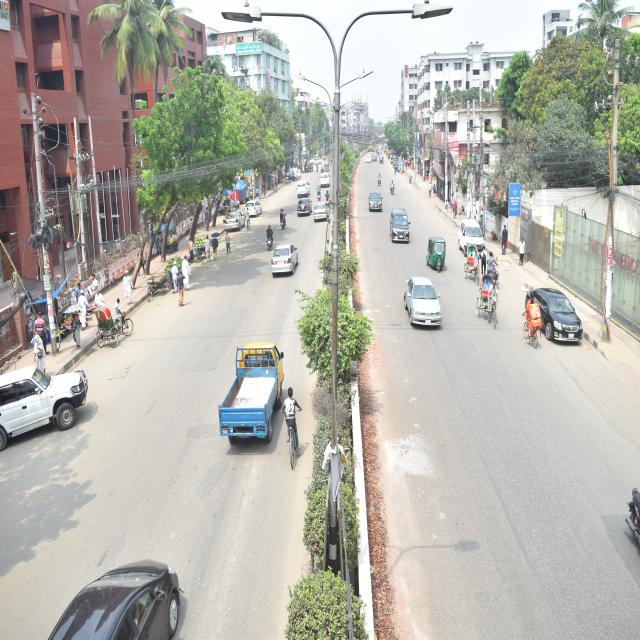bus: (358, 152, 382, 166)
car: (34, 533, 215, 640), (0, 345, 111, 467), (522, 272, 598, 350), (390, 271, 446, 353), (452, 206, 497, 277), (386, 198, 411, 262), (270, 240, 305, 277), (363, 187, 389, 223), (242, 194, 268, 226), (221, 208, 249, 237), (312, 193, 327, 238), (296, 189, 314, 224), (293, 178, 313, 204), (319, 165, 330, 194)
motorbike: (276, 199, 296, 239), (259, 218, 279, 250), (324, 186, 335, 216), (388, 174, 397, 203), (372, 170, 384, 188), (317, 178, 324, 206)
pickup-van: (212, 322, 300, 464)
